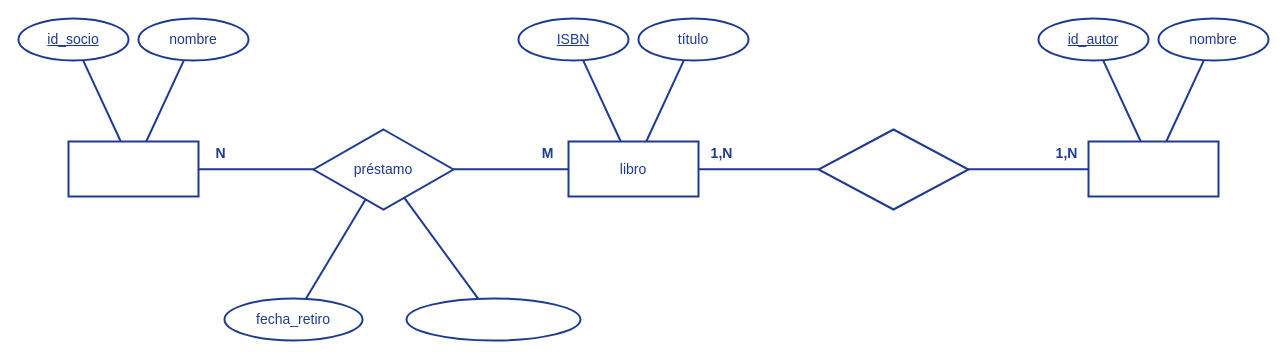
Image size: 1286x358. Some labels were removed from this diagram. The box of each missing label's shape, as (x1, y1, x2, y2) in pixels:
autor: (1087, 140, 1219, 197)
es escrito: (817, 128, 969, 210)
fecha_devolución: (405, 297, 581, 341)
socio: (67, 140, 199, 197)
